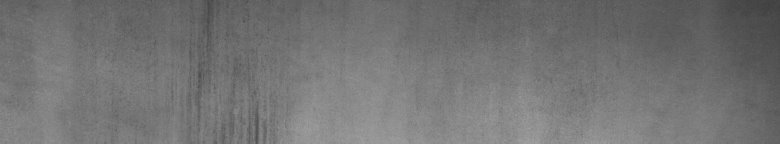ka: (188, 4, 272, 136)
